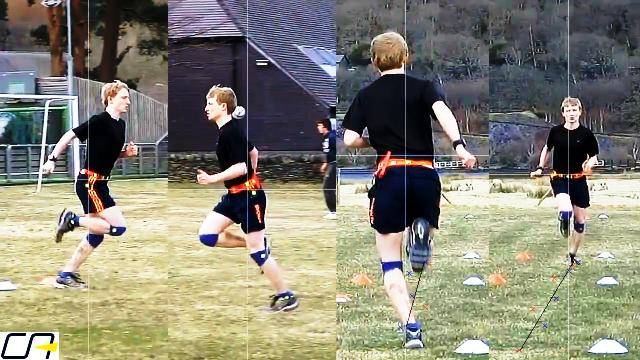berlari: (344, 28, 476, 354), (192, 81, 300, 320), (33, 79, 139, 297), (530, 93, 604, 270)
